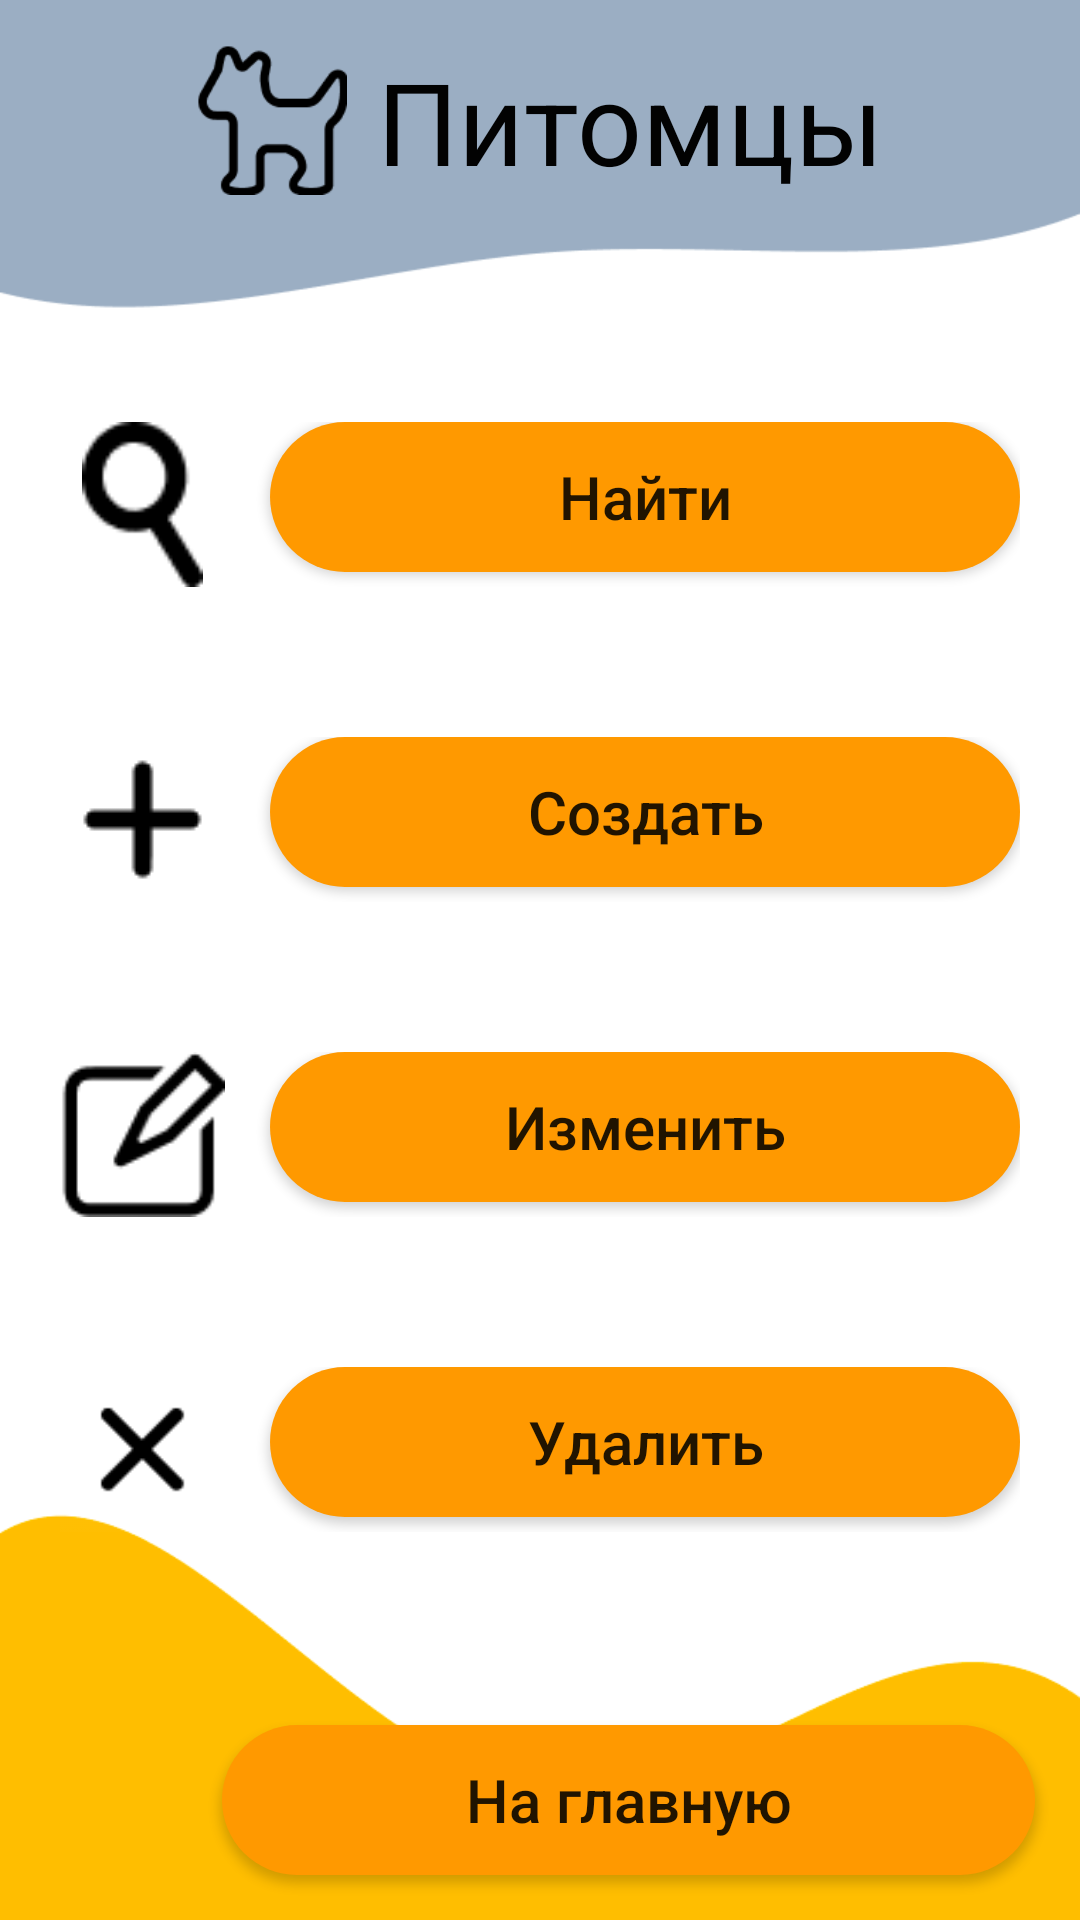

Icons on this 1080 × 1920 Android screen, each with its box as (x1, y1, x2, y2):
delete: (100, 1407, 185, 1492)
pet: (198, 46, 347, 195)
plus: (83, 760, 202, 879)
search: (82, 422, 203, 587)
